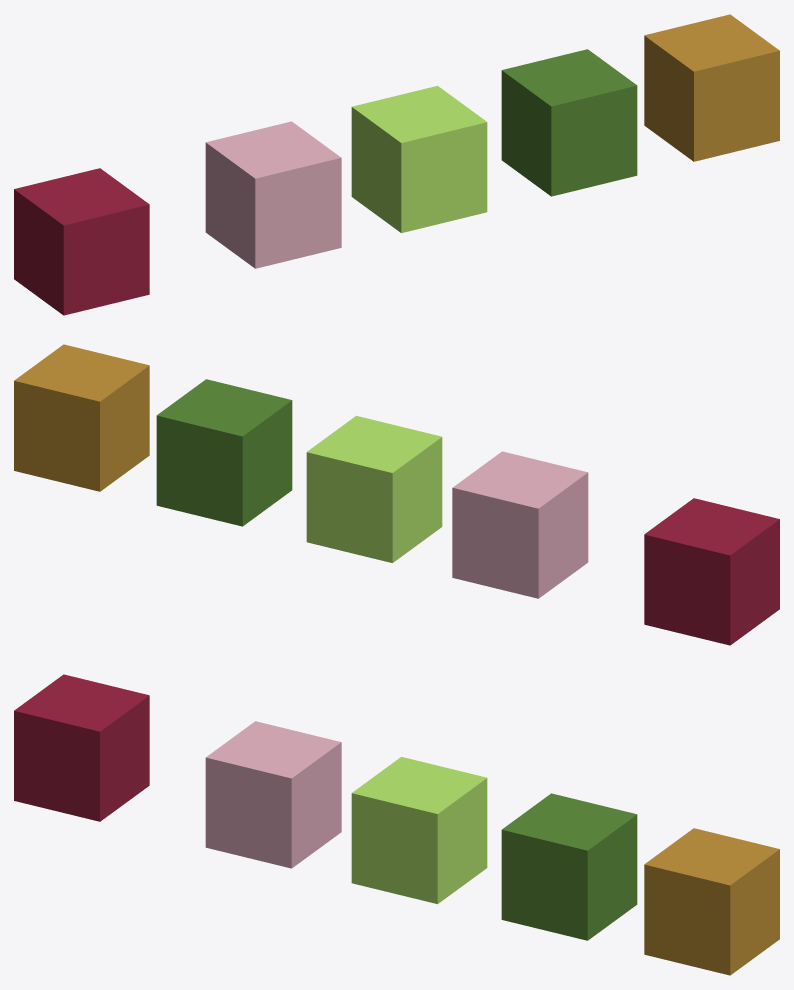
File: materials.fbx
3 renders of one model, top to bottom at view 1: azimuth 30°, elevation 25°; view 2: azimuth 150°, elevation 25°; view 3: azimuth 330°, elevation 25°, orthographic.
Visible parts, largest first — view 1: Cube.007, Cube.006, Cube.009, Cube.008, Cube.010; view 2: Cube.007, Cube.006, Cube.009, Cube.008, Cube.010; view 3: Cube.007, Cube.006, Cube.009, Cube.008, Cube.010.
Part boxes in pixels (x1,y1,x2,y2): Cube.007: (205,121,341,268); Cube.006: (351,85,487,232); Cube.009: (501,49,637,196); Cube.008: (14,168,149,315); Cube.010: (644,14,779,161); Cube.007: (452,451,588,598); Cube.006: (306,415,442,562); Cube.009: (156,379,292,526); Cube.008: (644,498,779,645); Cube.010: (14,344,149,491); Cube.007: (205,721,341,868); Cube.006: (351,757,487,904); Cube.009: (501,793,637,940); Cube.008: (14,674,149,821); Cube.010: (644,828,779,975).
Size of the model in its own units: 640 by 76.97 by 76.97.
